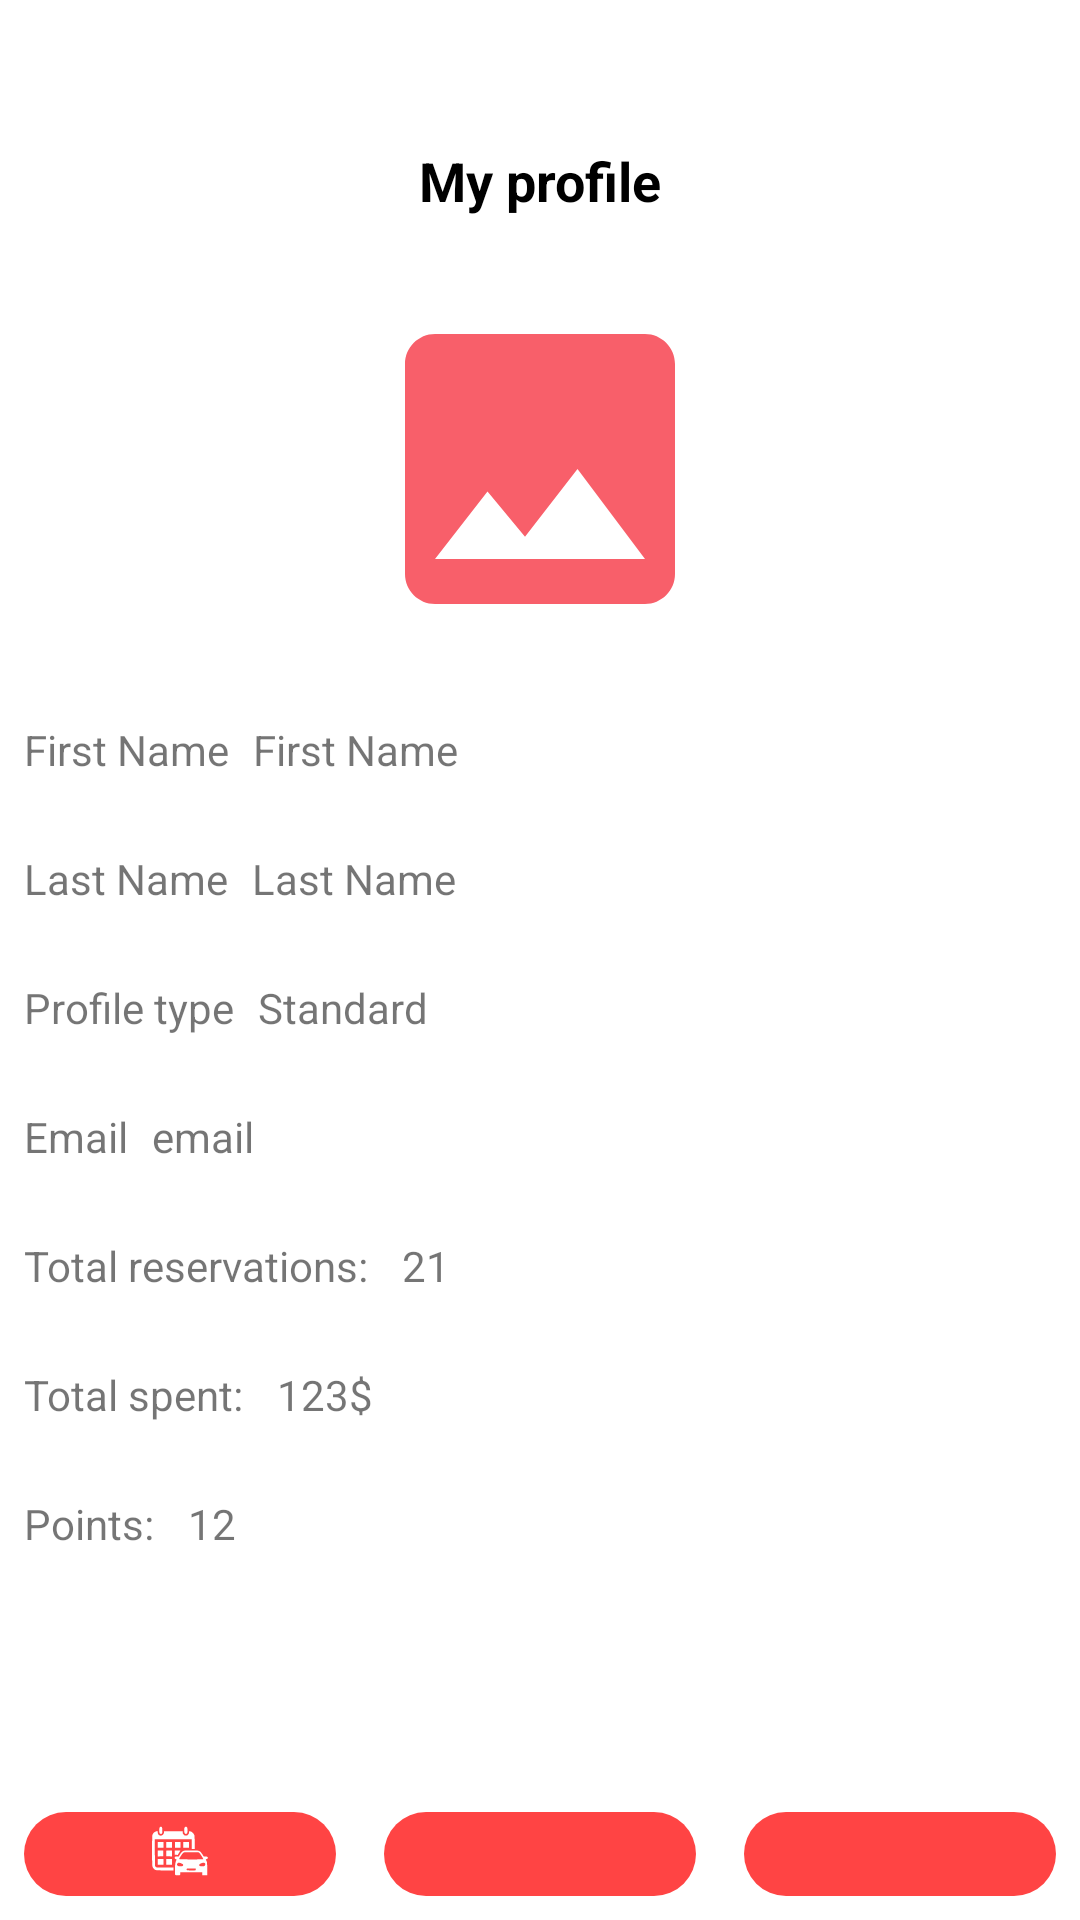

Point at icon controls on the screen. Image size 1080px×1920px, points as [x,y].
reservations: [180,1854]
